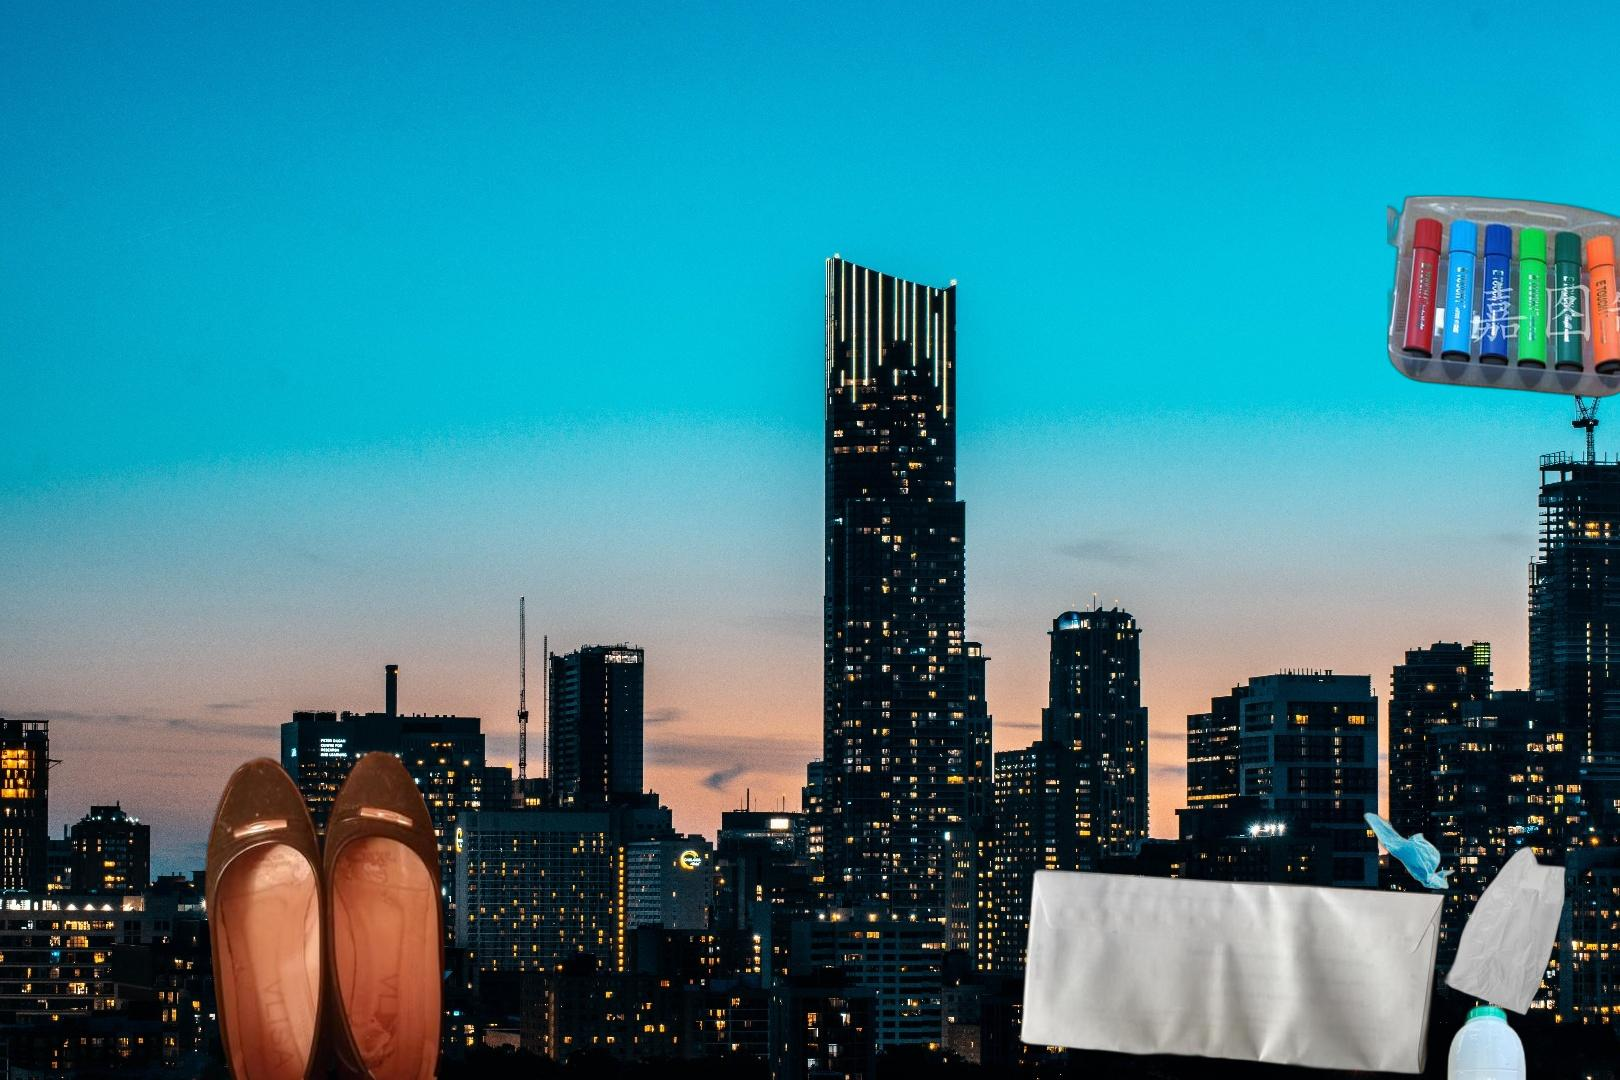clothes: (198, 745, 450, 1080)
paper: (1015, 867, 1449, 1078)
penholder: (1387, 192, 1620, 404)
plastic-bag: (1361, 785, 1568, 1019)
plastic-bottles: (1440, 999, 1530, 1080)
